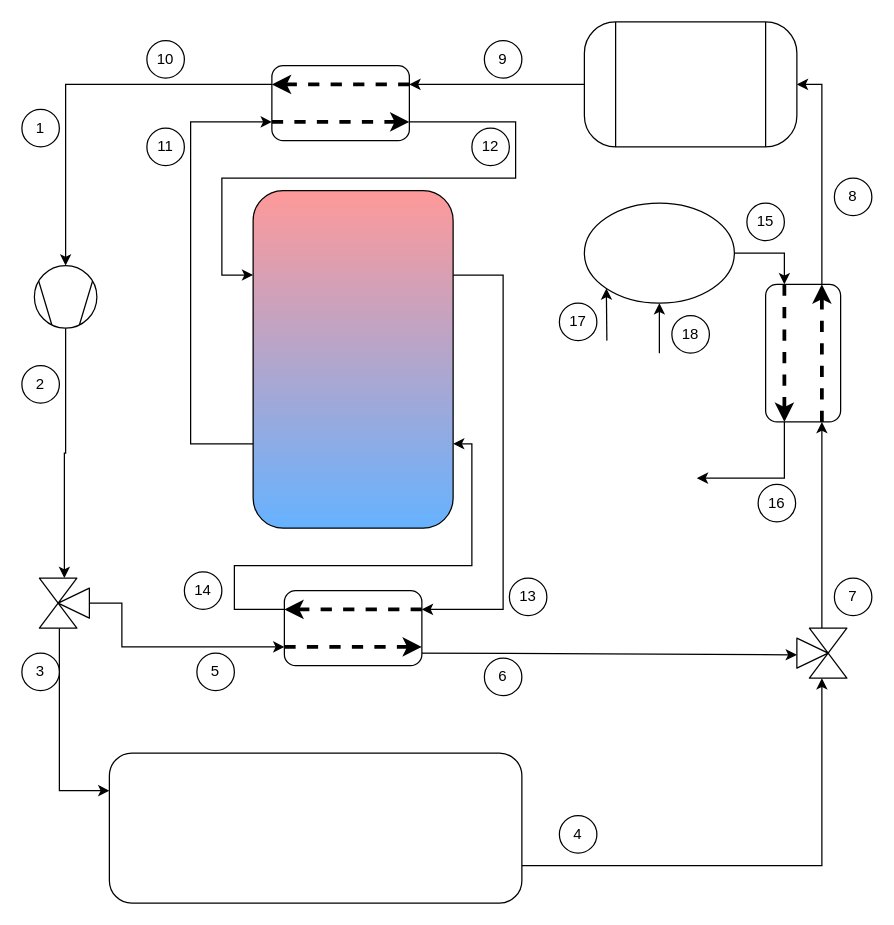
Image size: 894x925. Some labels were removed from this diagram. Each missing label, with the centre of its shape:
Gas burner: the point at 658,252
Process: the point at 690,84
Solar Field: the point at 315,827
TES: the point at 352,358
